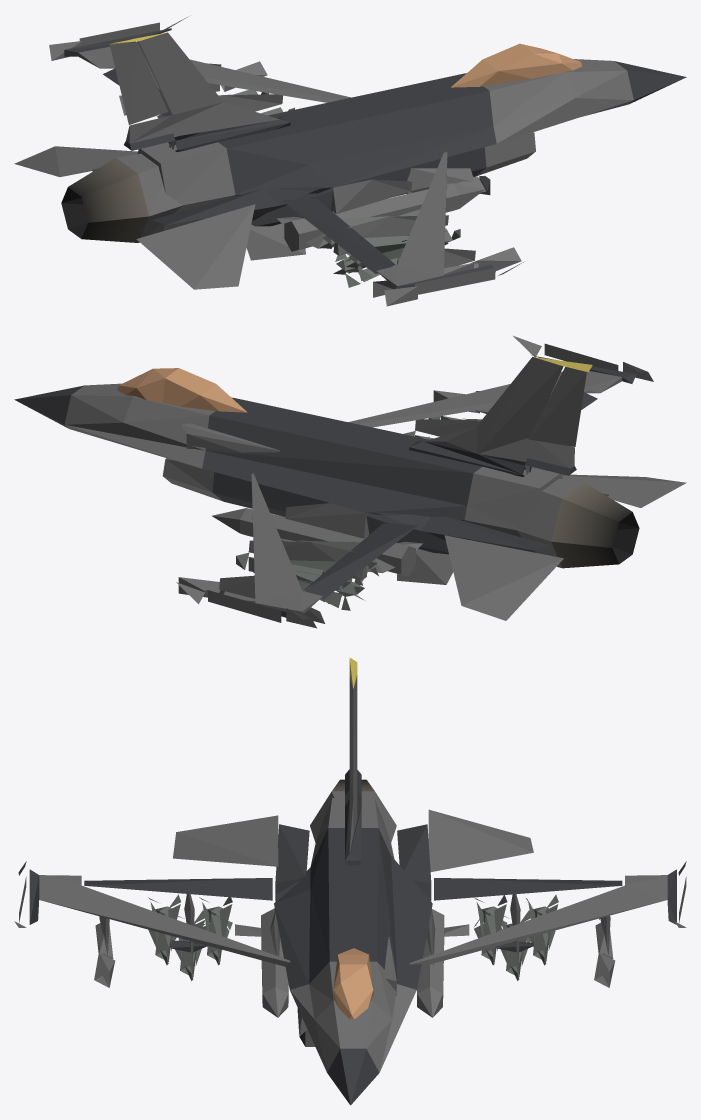
3 renders of one model, top to bottom at view 1: azimuth 30°, elevation 25°; view 2: azimuth 150°, elevation 25°; view 3: azimuth 270°, elevation 25°, orthographic. The views are drawn at different scales.
Visible parts, largest first — view 1: Cylinder.001_Grey_0; view 2: Cylinder.001_Grey_0; view 3: Cylinder.001_Grey_0.
Boxes of the visible parts, x1,y1,x2,y2 form: Cylinder.001_Grey_0: [14, 16, 686, 306]; Cylinder.001_Grey_0: [14, 336, 686, 628]; Cylinder.001_Grey_0: [14, 657, 686, 1105].
Size of the model in its own units: 13.7 by 5.2 by 13.28.
